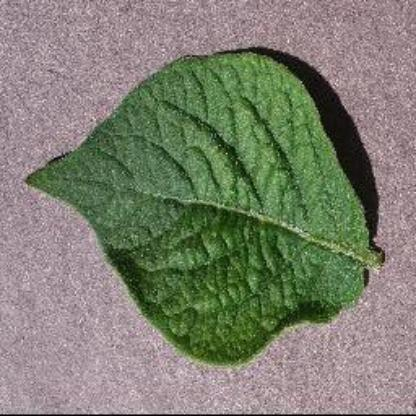Healthy-plant: (22, 45, 400, 367)
